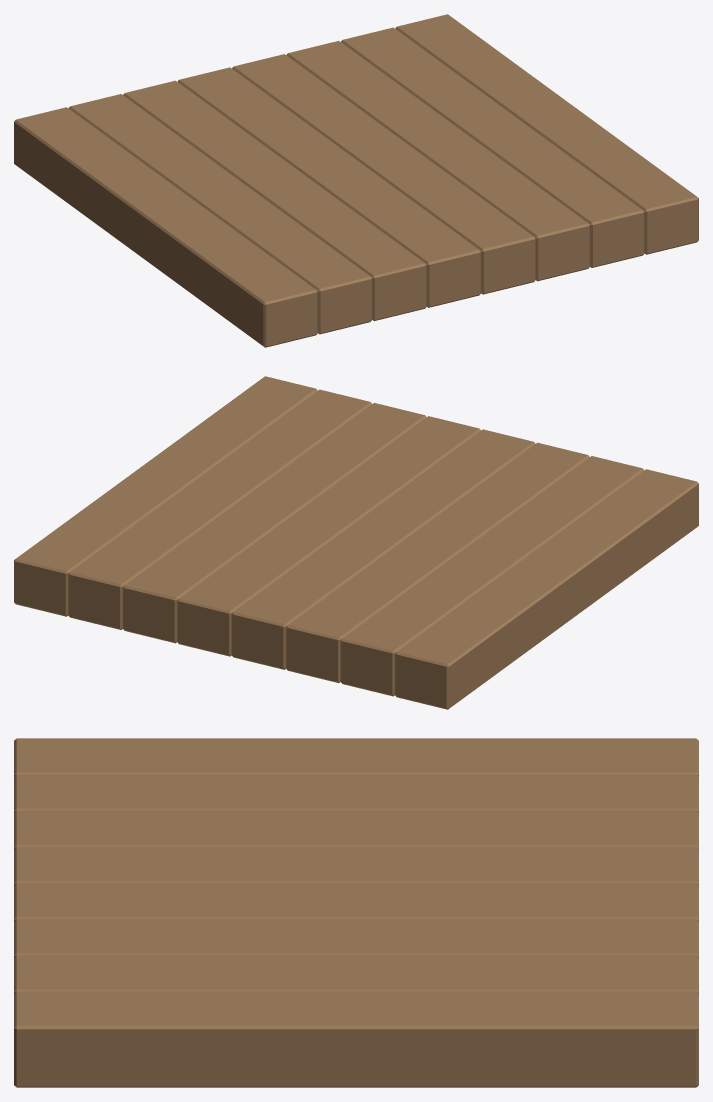
The model's file is SM_Floor.fbx.
3 views of the same model, one above another, from view 1: azimuth 30°, elevation 25°; view 2: azimuth 150°, elevation 25°; view 3: azimuth 270°, elevation 25° (orthographic). The views are drawn at different scales.
Visible parts, largest first — view 1: SM_Floor; view 2: SM_Floor; view 3: SM_Floor.
Part boxes in pixels (x1=…): SM_Floor: x1=14, y1=14, x2=698, y2=347; SM_Floor: x1=14, y1=376, x2=698, y2=709; SM_Floor: x1=14, y1=738, x2=698, y2=1087.
Bounding box in the file's own units: 2 × 0.2 × 2.
